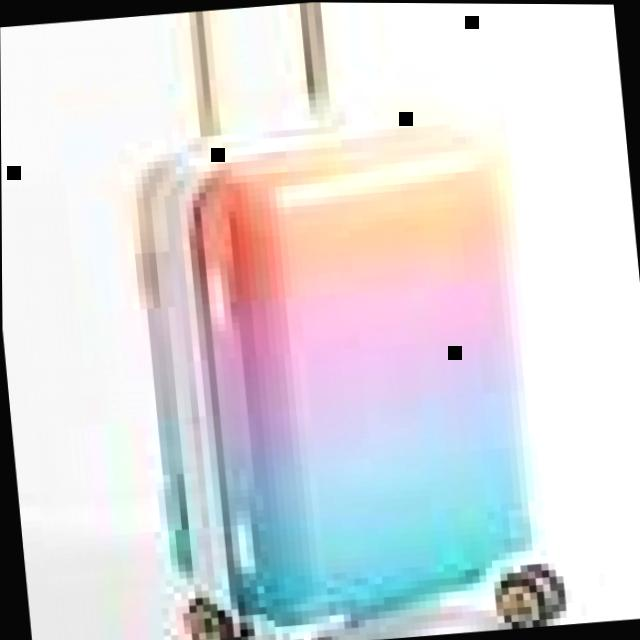luggage: (109, 94, 560, 640)
